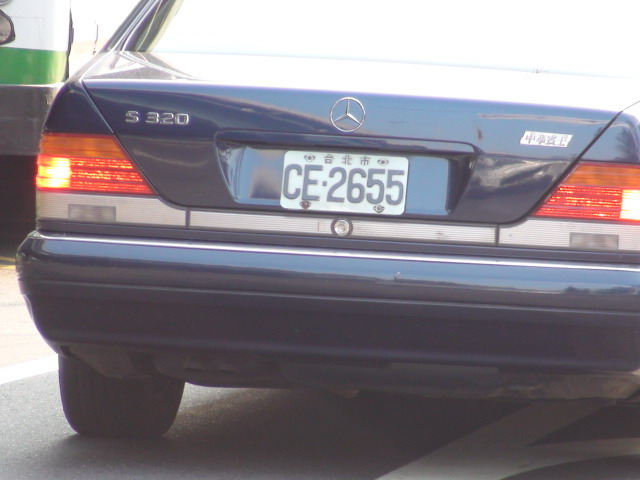plate: (277, 148, 411, 216)
